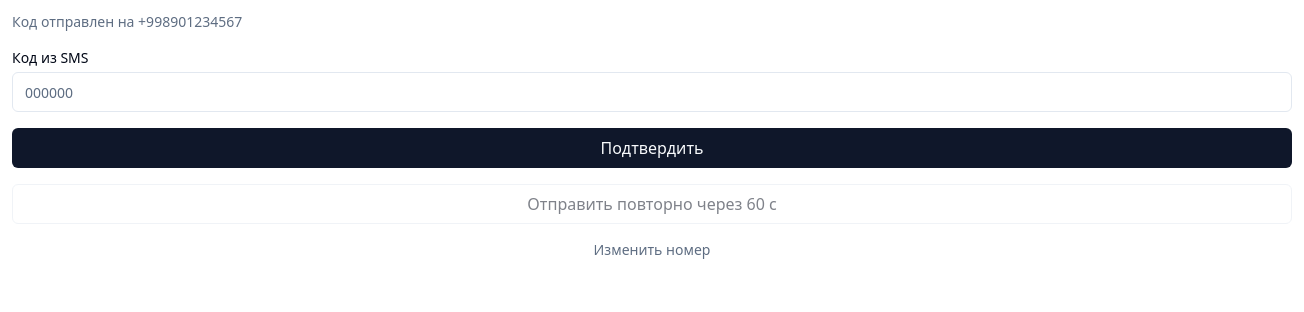
Test: shows the locked state after exhausting all attempts
Type "123456" into the field labelled "Код из SMS". click: (652, 92)
box: [12,72,1292,112]
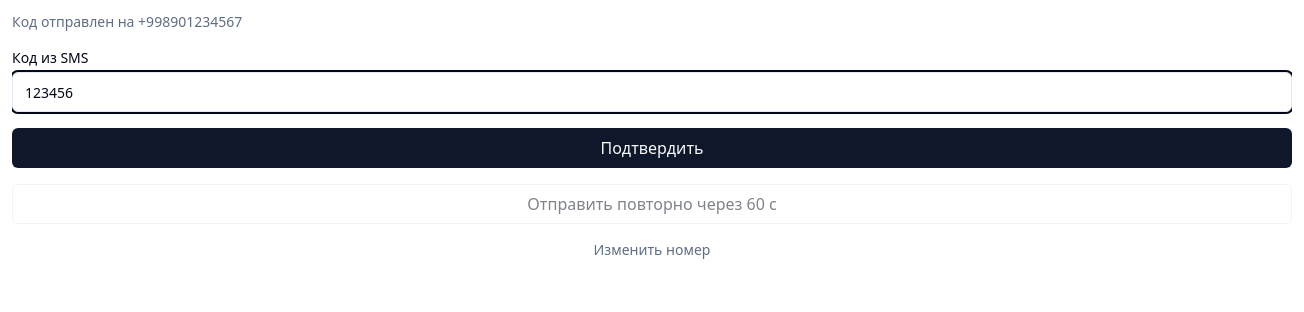
Click the button "Подтвердить". click: (652, 148)
box: [12,128,1292,168]
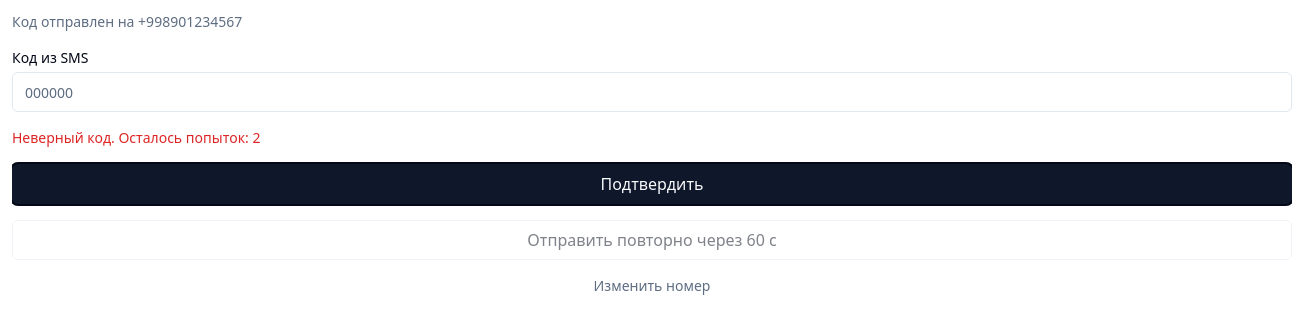
Check: the text "Неверный код. Осталось попыток: 2" is shown, box [12,128,260,147]
Type "123456" into the field labelled "Код из SMS". click: (652, 92)
box: [12,72,1292,112]
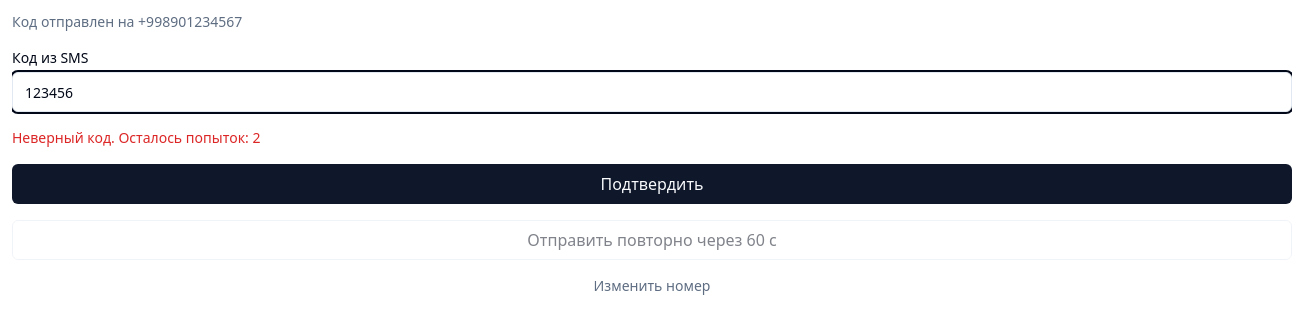
Click the button "Подтвердить". click: (652, 184)
box: [12,164,1292,204]
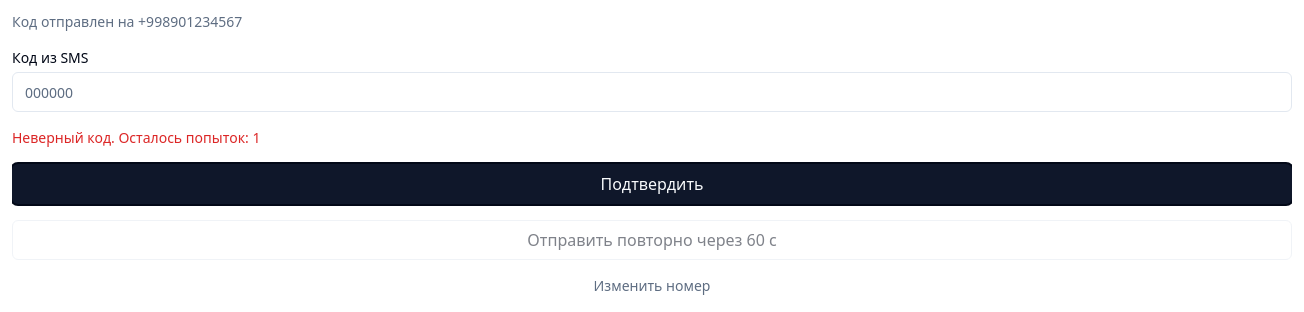
Check: the text "Неверный код. Осталось попыток: 1" is shown, box [12,128,260,147]
Type "123456" into the field labelled "Код из SMS". click: (652, 92)
box: [12,72,1292,112]
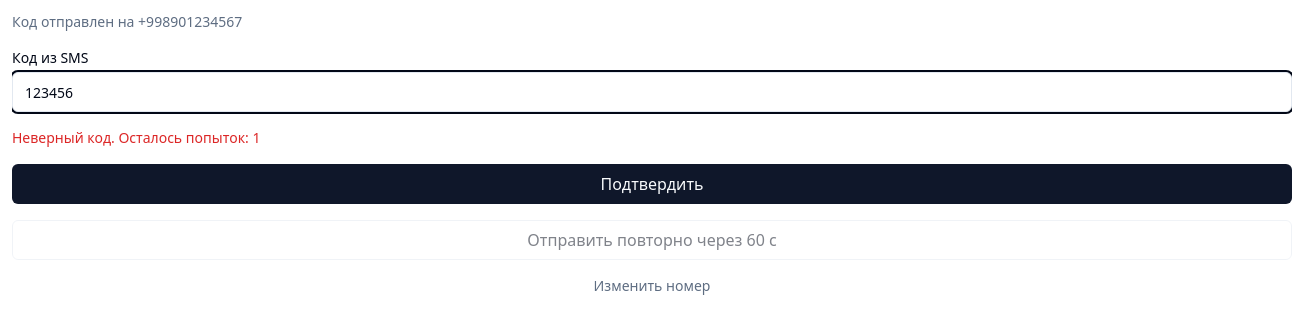
Click the button "Подтвердить". click: (652, 184)
box: [12,164,1292,204]
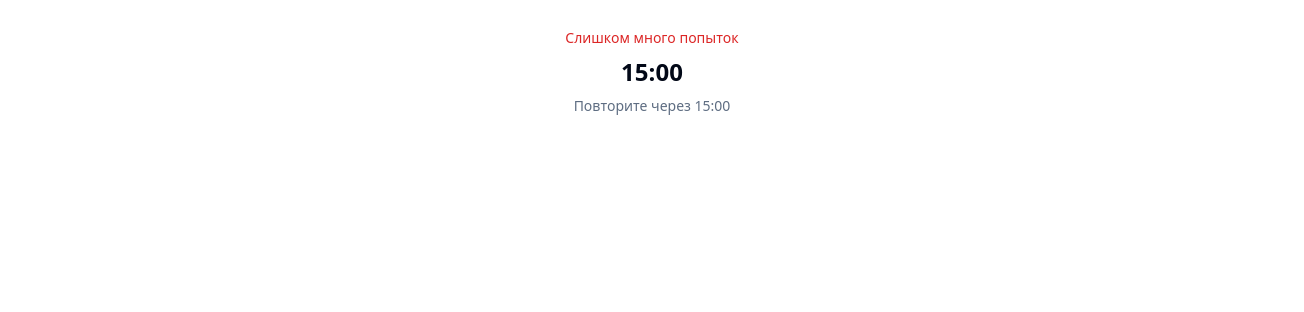
Check: the text "Слишком много попыток" is shown, box [565,28,739,48]
Check: the label labelled "Код из SMS" is gone
